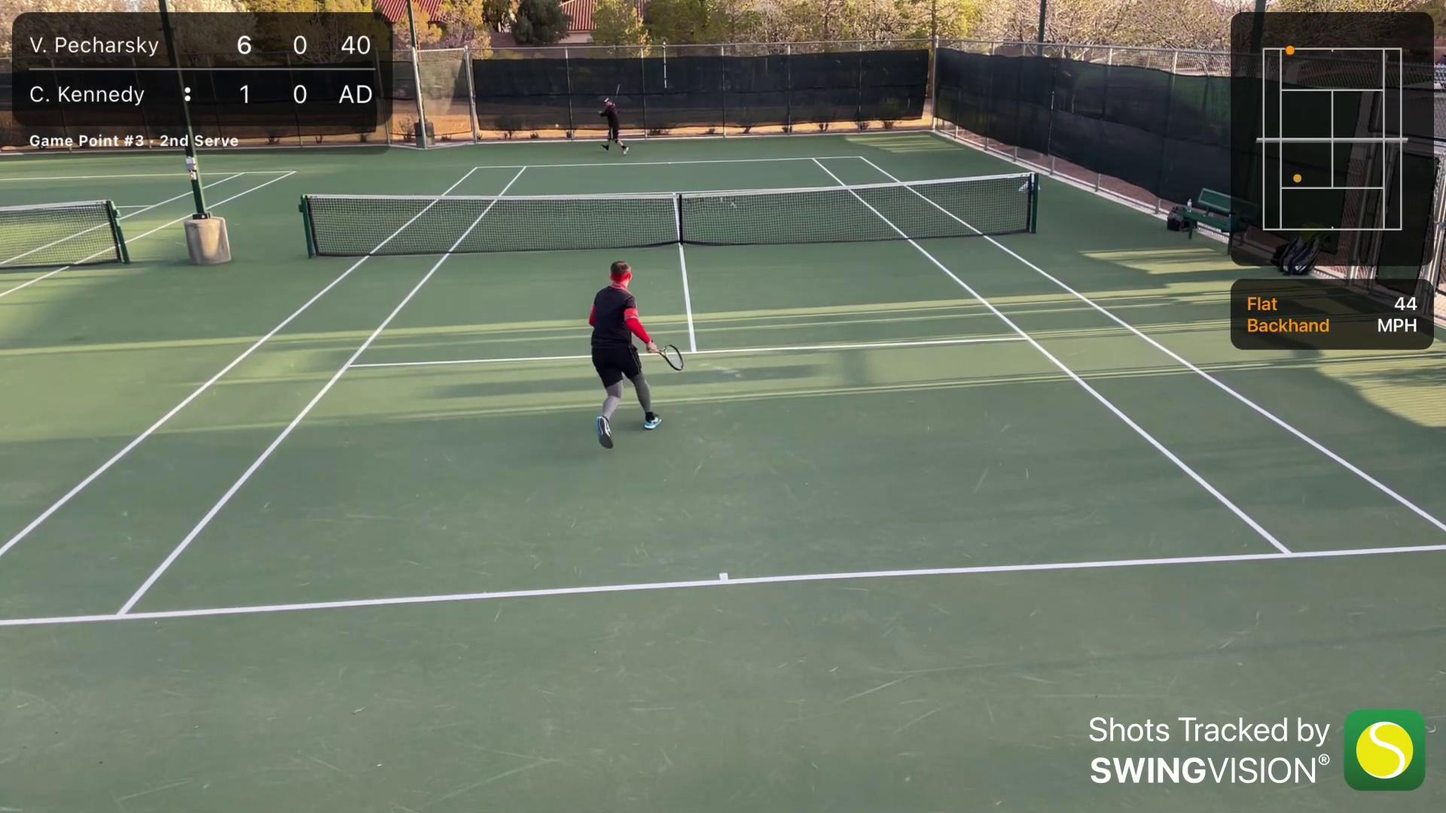ball: (554, 122, 560, 130)
